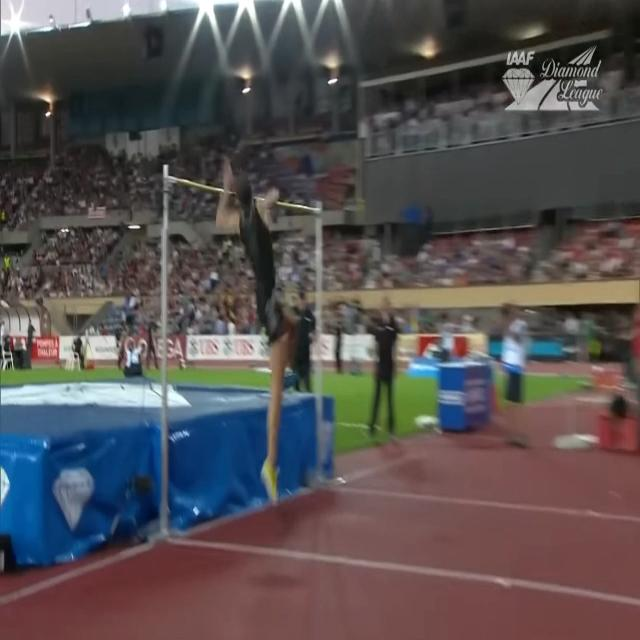jump: (215, 156, 290, 506)
